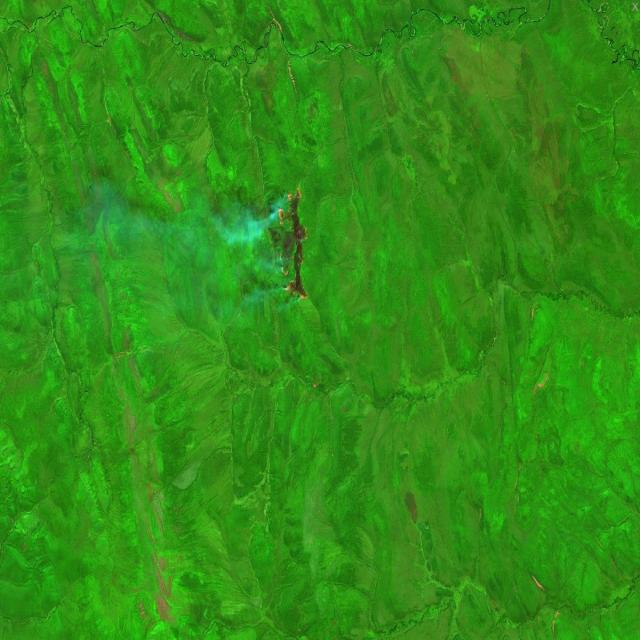fire: (271, 181, 312, 314)
